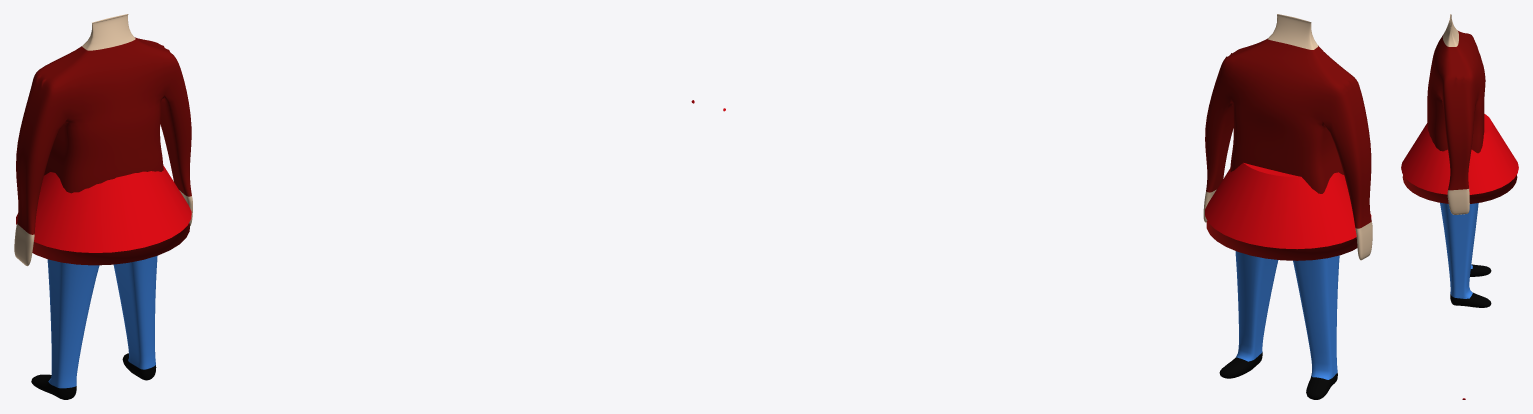
The model's file is Nora_ohne_Kopf (2).fbx.
The picture shows the model from 3 angles, left to right: view 1: azimuth 30°, elevation 25°; view 2: azimuth 150°, elevation 25°; view 3: azimuth 270°, elevation 25°; orthographic projection. The views are drawn at different scales.
Visible parts, largest first — view 1: Cube, Circle.010, Circle.005; view 2: Cube, Circle.010, Circle.005; view 3: Cube, Circle.010, Circle.005.
Part boxes in pixels (<box>): Cube: <box>14,14,192,399</box>; Circle.010: <box>16,165,191,252</box>; Circle.005: <box>32,223,189,265</box>; Cube: <box>1203,14,1372,399</box>; Circle.010: <box>1205,163,1371,249</box>; Circle.005: <box>1206,221,1357,260</box>; Cube: <box>1427,14,1491,307</box>; Circle.010: <box>1401,114,1518,194</box>; Circle.005: <box>1402,175,1517,203</box>.
Size of the model in its own units: 197 by 104 by 40.98.
